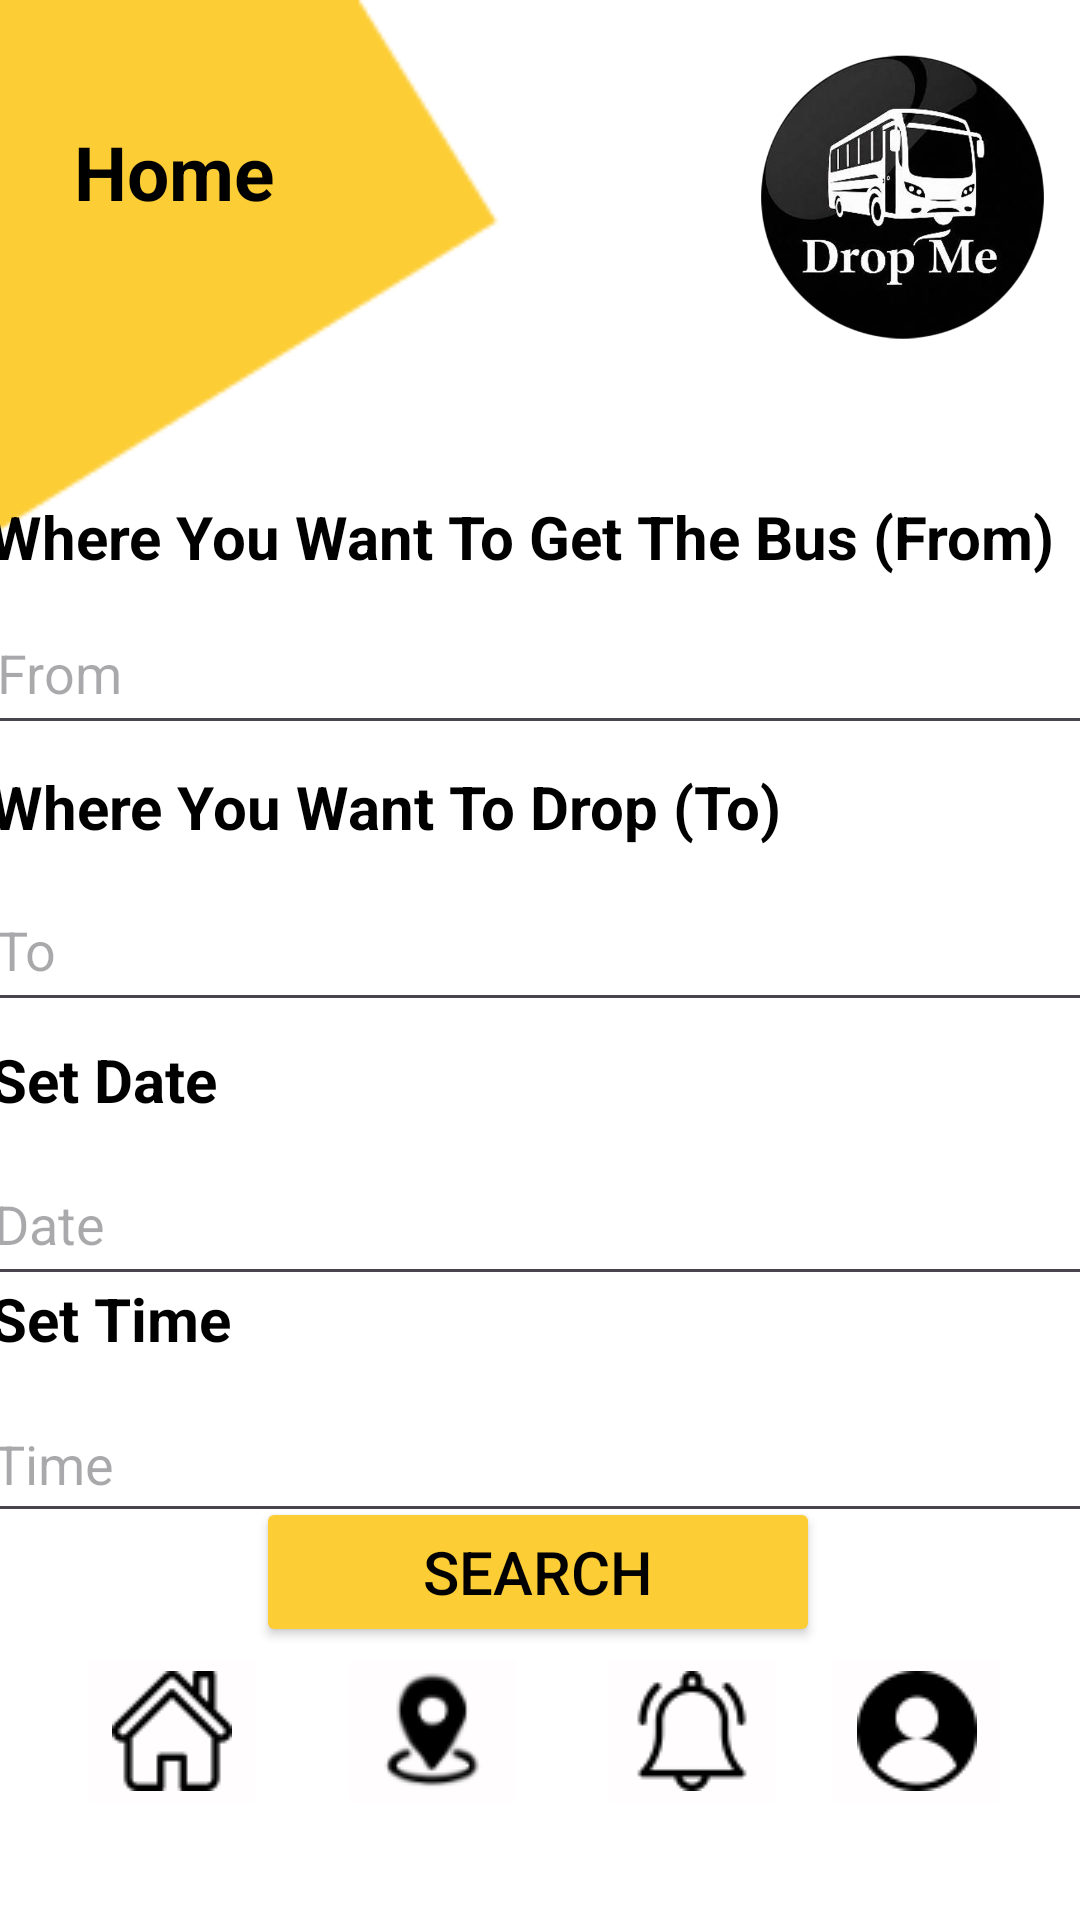

Where to tap for icons on this 1080 × 1920 app screen, as point (x, y):
belb: point (692, 1731)
homeb: point (172, 1731)
userb: point (917, 1731)
